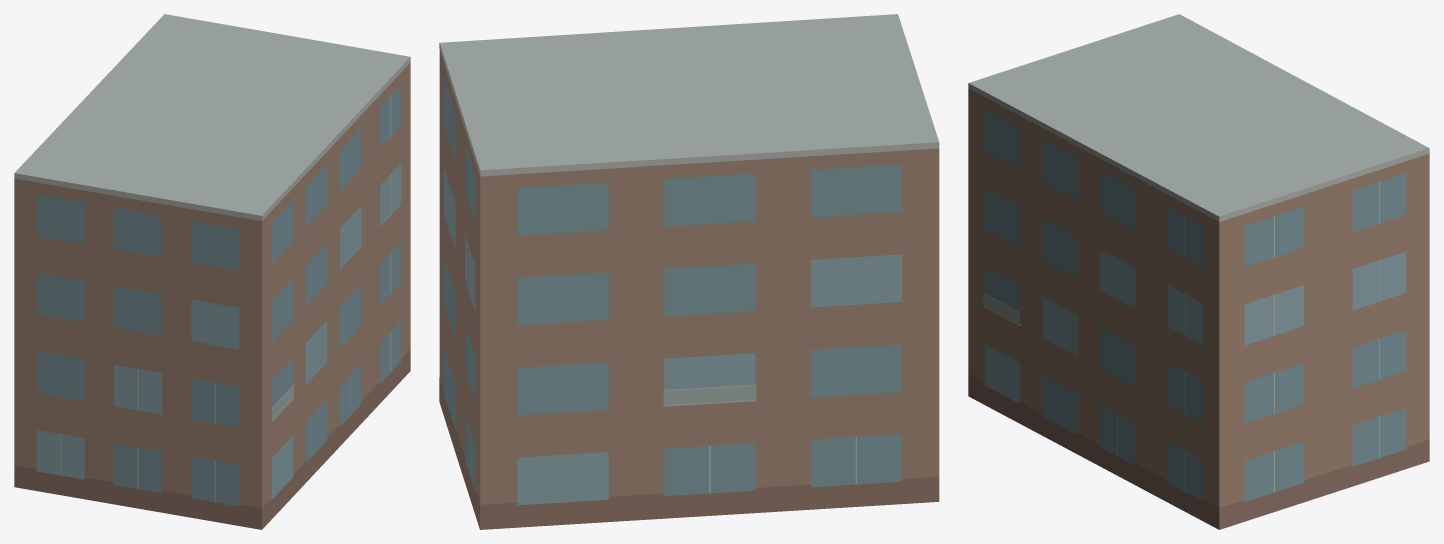
Rendered from survey-upis-32589230.glb.
3 renders of one model, left to right at view 1: azimuth 30°, elevation 25°; view 2: azimuth 150°, elevation 25°; view 3: azimuth 270°, elevation 25°, orthographic. The views are drawn at different scales.
Parts seen in each view (by area): view 1: survey-upis-32589230.tmp; view 2: survey-upis-32589230.tmp; view 3: survey-upis-32589230.tmp.
Part boxes in pixels (left/top/right/bottom): survey-upis-32589230.tmp: left=14, top=14, right=410, bottom=529; survey-upis-32589230.tmp: left=439, top=14, right=939, bottom=529; survey-upis-32589230.tmp: left=968, top=14, right=1429, bottom=529.
Bounding box in the file's own units: 19.71 × 14.2 × 18.96.
